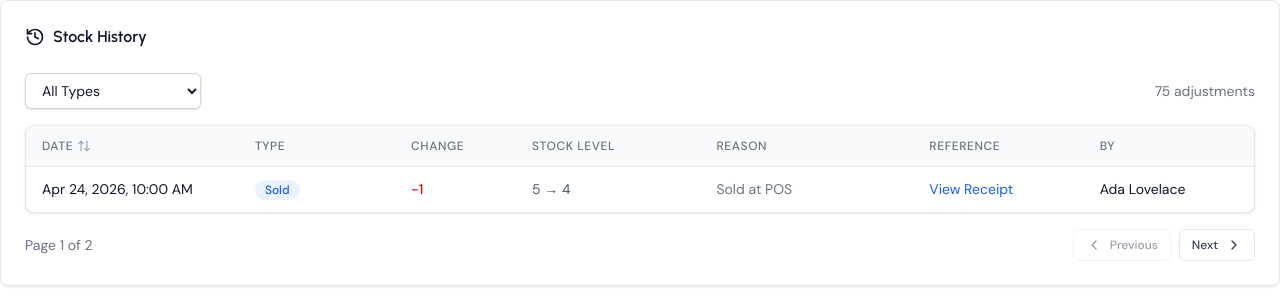
Scenario: StockHistoryCard › Next pagination increments offset by 50
The image size is (1280, 304).
Expected: the text "Page 1 of 2" is shown, [25,234,93,254]
Click the button "Next": (1217, 244) [1179,228,1255,260]
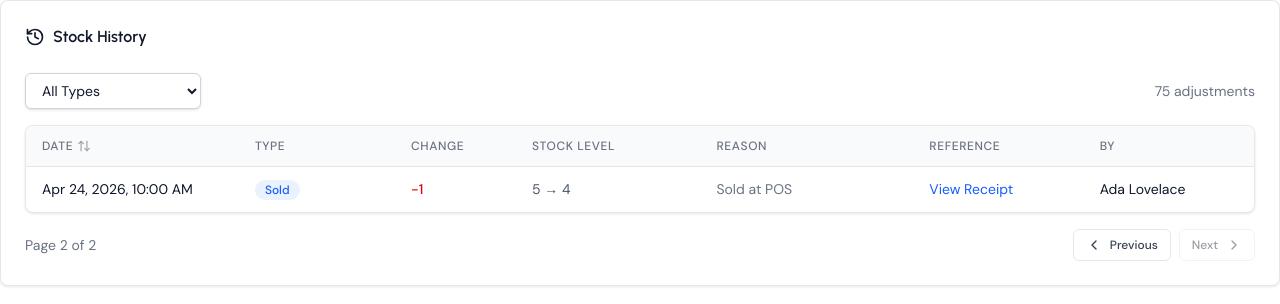
Expected: the text "Page 2 of 2" is shown, [25,234,96,254]
